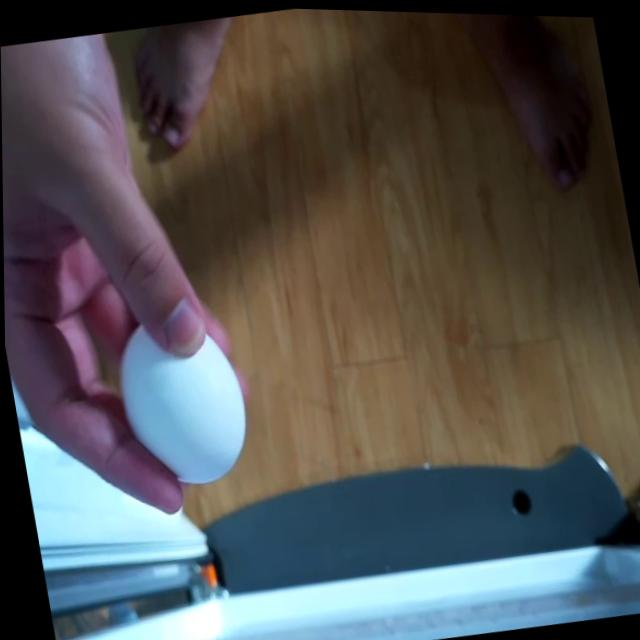egg: (102, 300, 257, 497)
